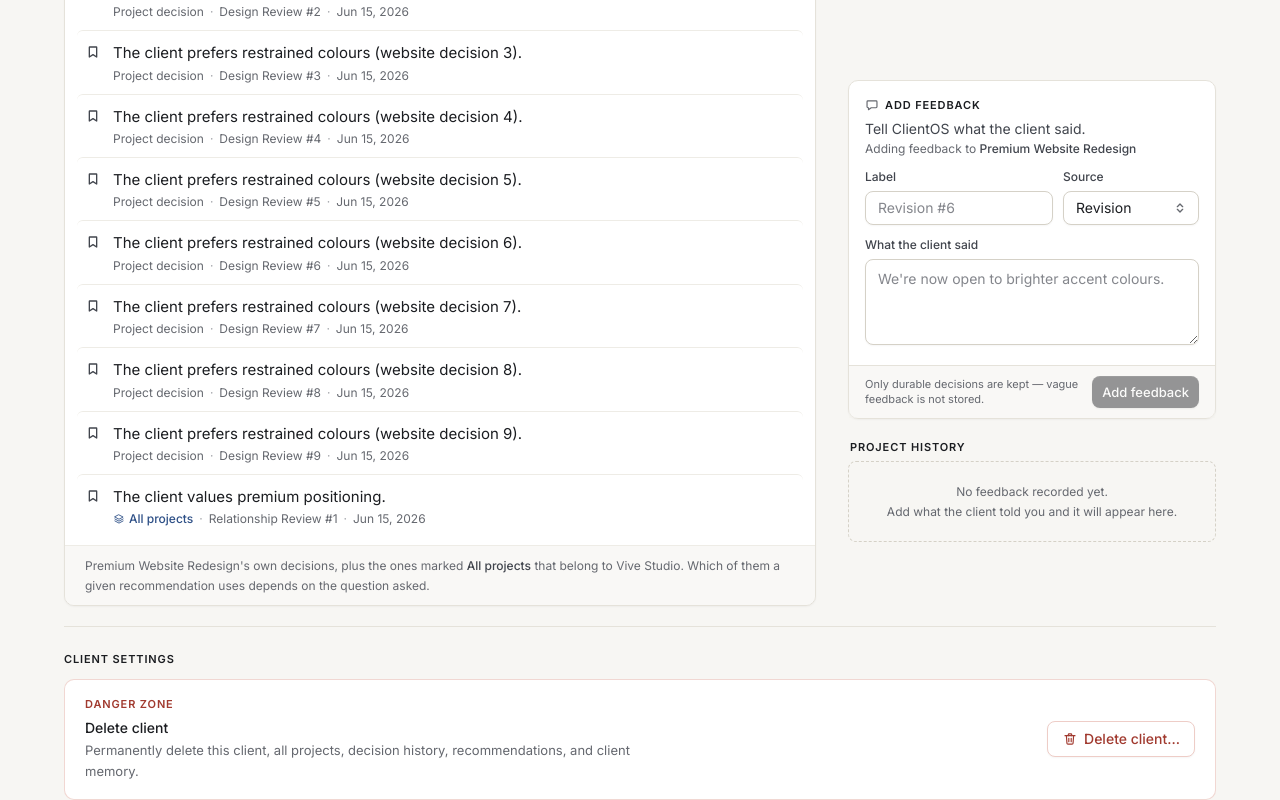
Test: Delete client — action and dialog › the dialog names the client
(page scrolled)
Click the button "Delete client…": point(1121, 739) [1047,721,1195,757]
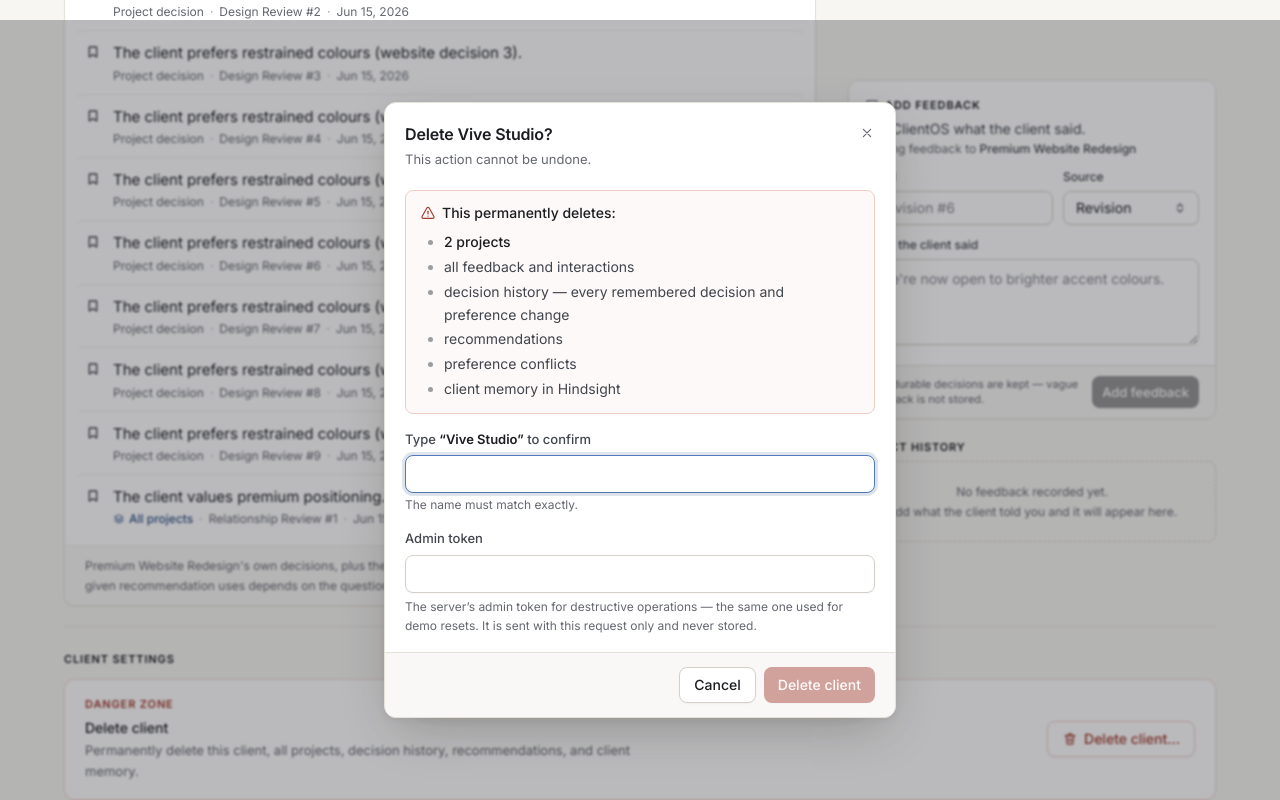
Check: the heading "Delete Vive Studio?" is shown, box [405,124,552,144]
Check: the field labelled "Type “Vive Studio” to confirm" is shown, box [405,455,875,493]
Check: the dialog "Delete Vive Studio?" shows "cannot be undone", box [405,151,591,167]
